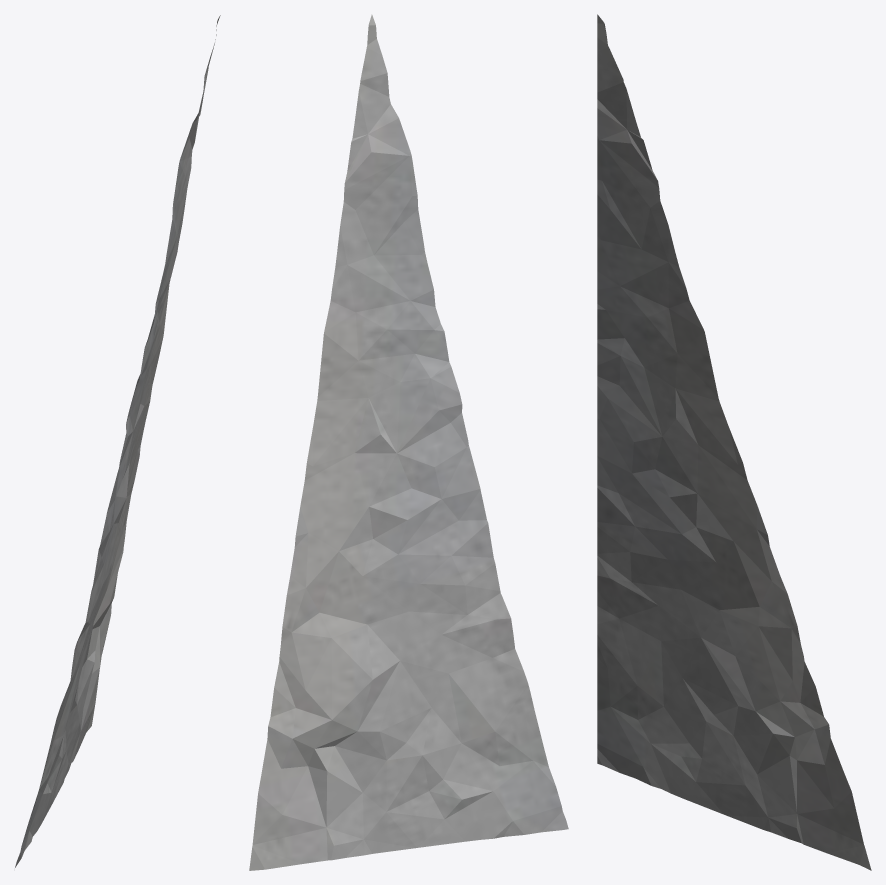
3 views of the same model, side by side, from view 1: azimuth 30°, elevation 25°; view 2: azimuth 150°, elevation 25°; view 3: azimuth 270°, elevation 25° (orthographic). The views are drawn at different scales.
Bounding box in the file's own units: 0.1944 × 0.7239 × 0.2101.
1 material, 1 textured.
